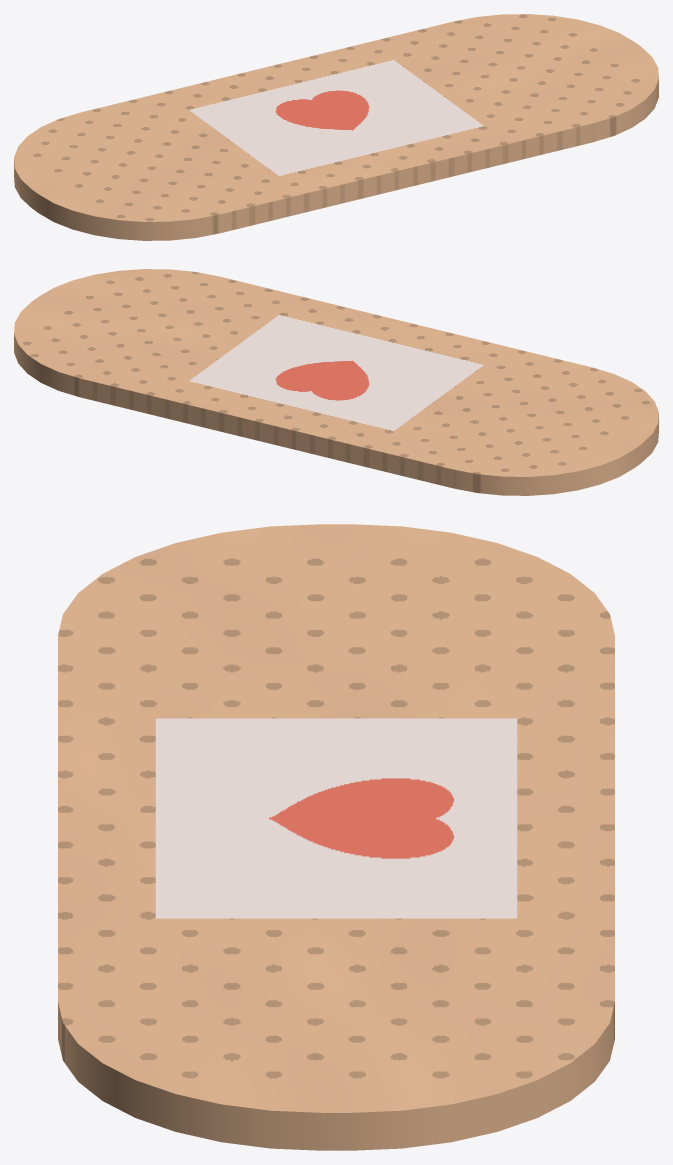
The model's file is bandaid.glb.
3 views of the same model, one above another, from view 1: azimuth 30°, elevation 25°; view 2: azimuth 150°, elevation 25°; view 3: azimuth 270°, elevation 25° (orthographic). The views are drawn at different scales.
Visible parts, largest first — view 1: Bandaid; view 2: Bandaid; view 3: Bandaid.
Part boxes in pixels (box(x1,y1,x2,y2)): Bandaid: box(14, 14, 658, 240); Bandaid: box(14, 269, 658, 495); Bandaid: box(58, 524, 614, 1150).
Size of what is drawn, in the model's own units: 0.1 by 0.003 by 0.04.
Materials: 1 (1 with a texture image).
